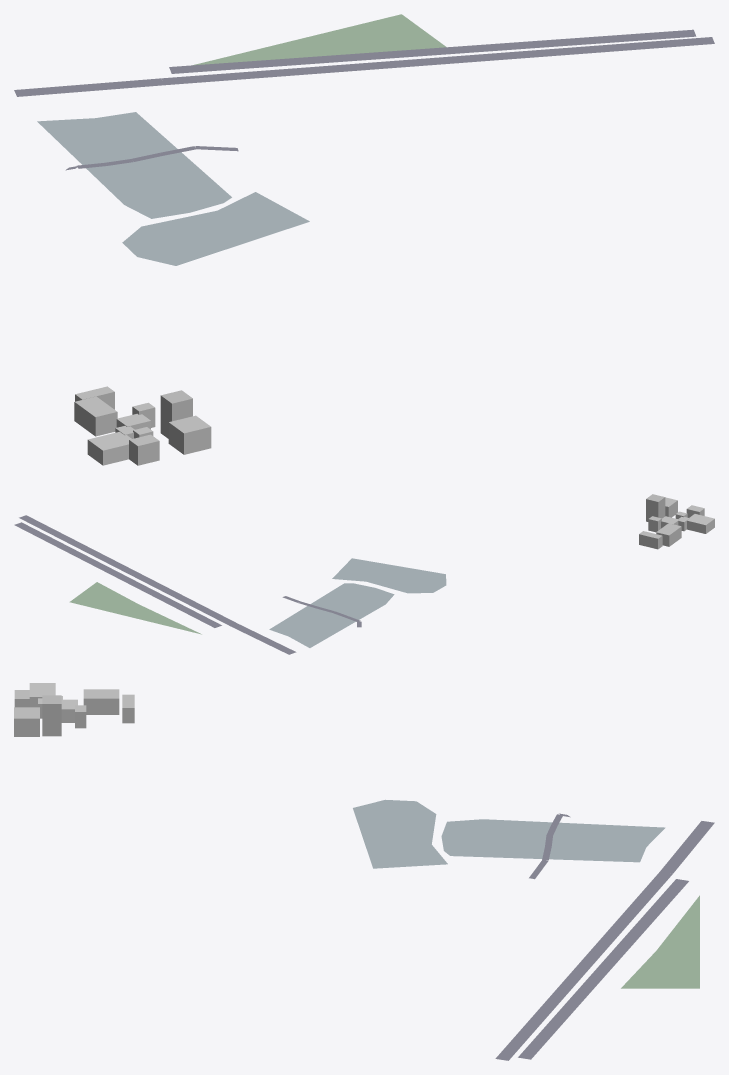
File: 136_82_mid.glb
The picture shows the model from 3 angles, top to bottom: view 1: azimuth 30°, elevation 25°; view 2: azimuth 150°, elevation 25°; view 3: azimuth 270°, elevation 25°; orthographic projection. The views are drawn at different scales.
Size of the model in its own units: 646 by 30.59 by 518.
